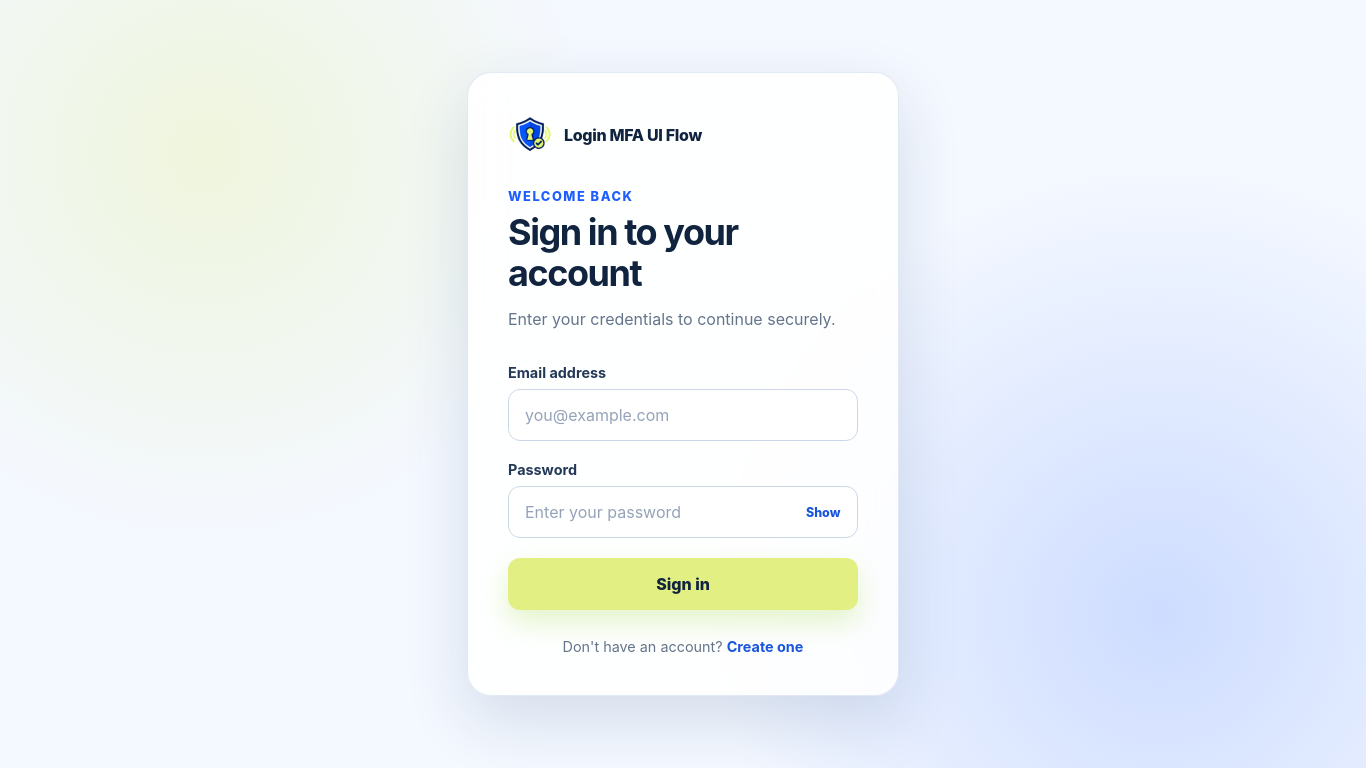
Scenario: application authentication flow › recovers when the login request unexpectedly fails
In the field labelled "Email address": (683, 415) [508,389,858,441], type "editor@example.com"
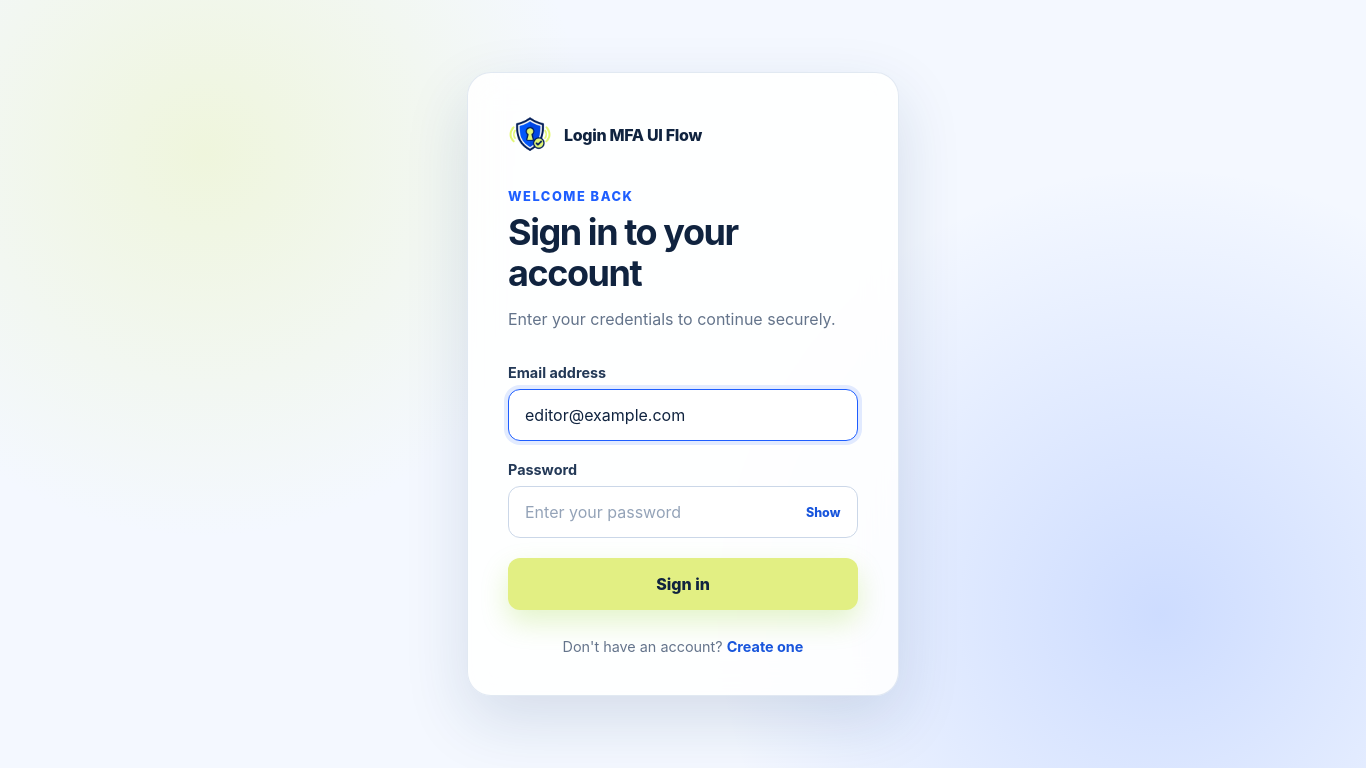
In the password field labelled "Password": (683, 512) [508,486,858,538], type "Editor123!"
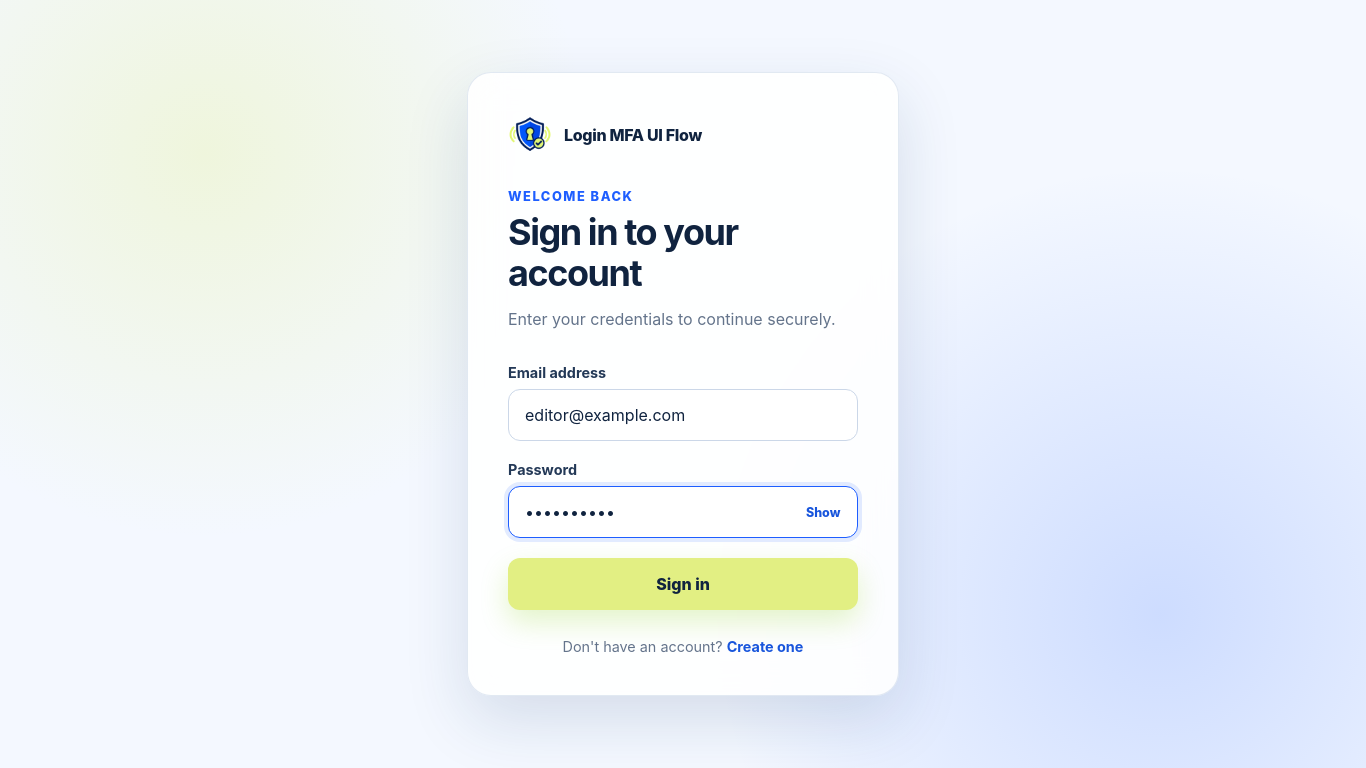
Click the button "Sign in": (683, 584) [508,558,858,610]
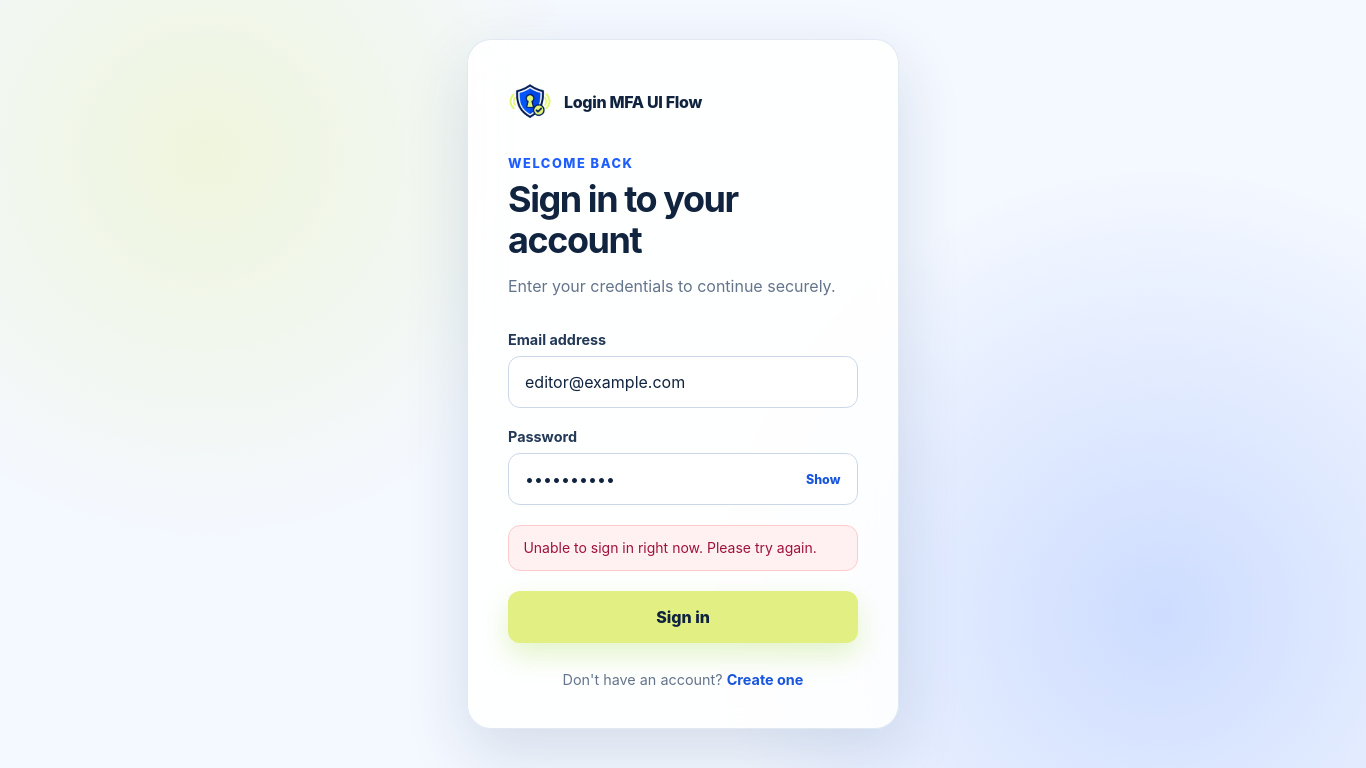
Expected: the button "Sign in" is enabled, [508,591,858,643]
Expected: the text "Unable to sign in right now. Please try again." is shown, [508,525,858,571]
